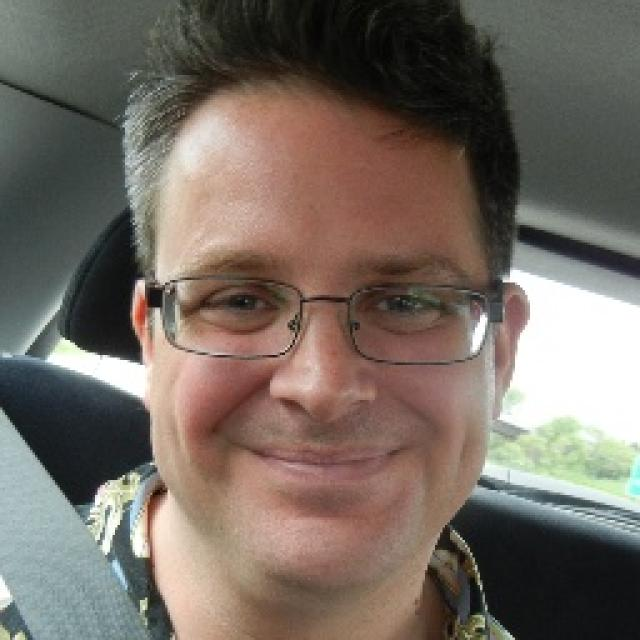earlobe: (489, 368, 514, 423)
eye: (199, 283, 277, 318), (362, 287, 438, 320)
nose: (278, 401, 378, 444)
wholeear: (492, 282, 530, 423), (131, 279, 151, 410)
